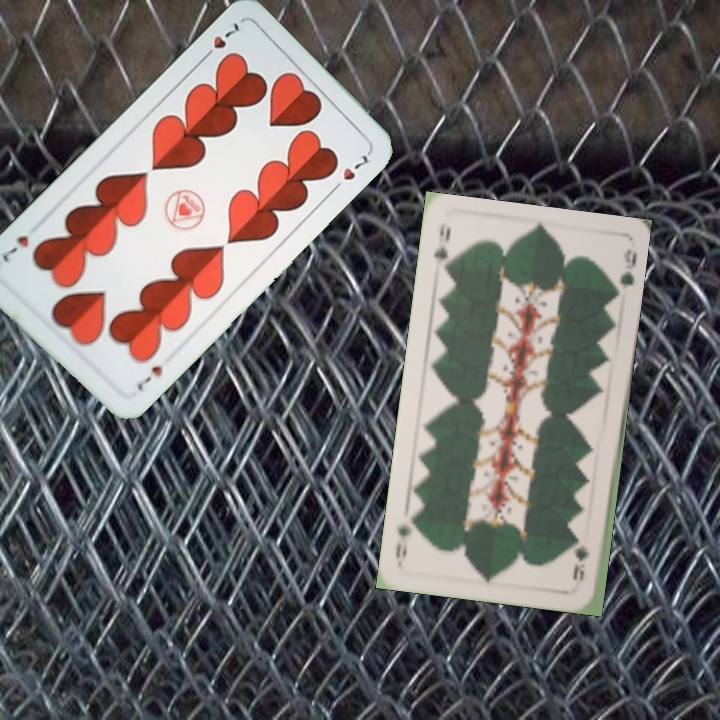G9: (429, 218, 453, 278), (571, 542, 592, 584)
H7: (197, 18, 242, 64), (132, 361, 165, 394)
